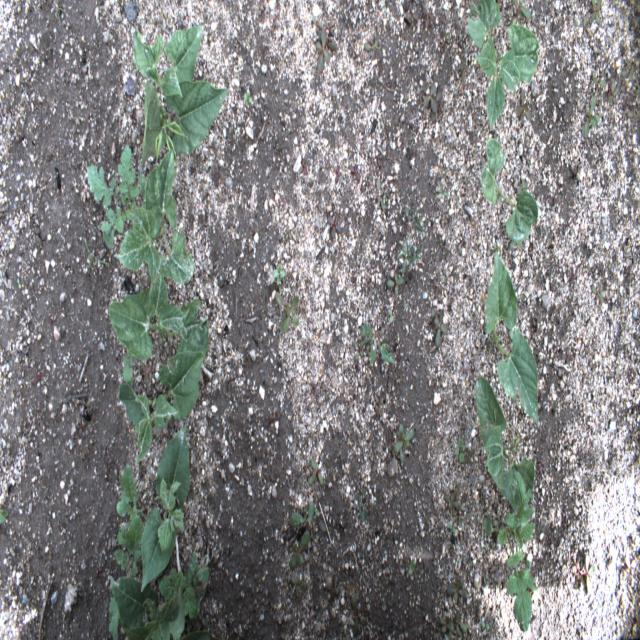crop: (131, 23, 232, 168), (482, 246, 540, 434), (116, 153, 196, 286), (118, 350, 205, 468), (104, 269, 209, 363), (468, 0, 540, 131), (141, 424, 190, 596), (474, 373, 535, 508), (480, 138, 539, 250), (108, 572, 185, 640)
weed: (481, 488, 538, 634), (83, 143, 142, 252), (158, 547, 210, 616), (114, 462, 144, 576), (284, 500, 326, 570), (313, 12, 340, 71), (79, 229, 108, 272), (418, 78, 447, 120), (350, 322, 377, 367), (395, 412, 418, 464), (107, 578, 126, 639), (442, 478, 464, 530), (574, 547, 596, 599), (579, 0, 605, 41), (274, 292, 300, 332), (348, 584, 368, 636), (616, 51, 638, 96), (582, 95, 604, 139), (442, 603, 468, 638), (442, 576, 472, 606), (448, 432, 474, 466), (396, 233, 420, 268), (430, 306, 448, 351), (307, 455, 330, 490), (288, 574, 310, 610), (514, 88, 536, 124), (438, 24, 457, 62), (384, 270, 406, 302), (607, 74, 626, 110), (402, 204, 425, 233), (375, 168, 389, 214), (324, 572, 342, 606), (419, 2, 438, 34), (622, 96, 638, 134), (430, 176, 453, 202), (308, 378, 330, 403), (268, 260, 286, 290), (355, 481, 367, 526), (509, 0, 532, 23), (362, 33, 382, 59), (379, 342, 397, 370), (0, 261, 11, 306), (325, 212, 342, 241), (454, 54, 469, 86), (236, 84, 254, 109), (590, 279, 605, 308), (373, 393, 387, 420), (29, 364, 50, 382), (89, 561, 106, 583), (404, 555, 418, 581), (266, 405, 283, 426), (296, 154, 309, 181), (565, 260, 579, 285), (591, 71, 606, 93), (332, 161, 344, 188), (446, 517, 458, 544), (363, 270, 377, 292), (404, 2, 418, 23), (12, 268, 23, 294), (77, 438, 88, 464), (49, 3, 64, 21), (388, 308, 404, 324), (399, 344, 408, 372), (0, 502, 10, 527), (476, 616, 492, 631), (333, 274, 343, 297), (281, 225, 293, 243), (348, 164, 362, 179), (1, 198, 10, 220), (378, 2, 392, 15), (46, 310, 56, 328), (262, 41, 271, 60), (401, 290, 409, 310), (373, 152, 386, 164), (518, 176, 530, 188)
